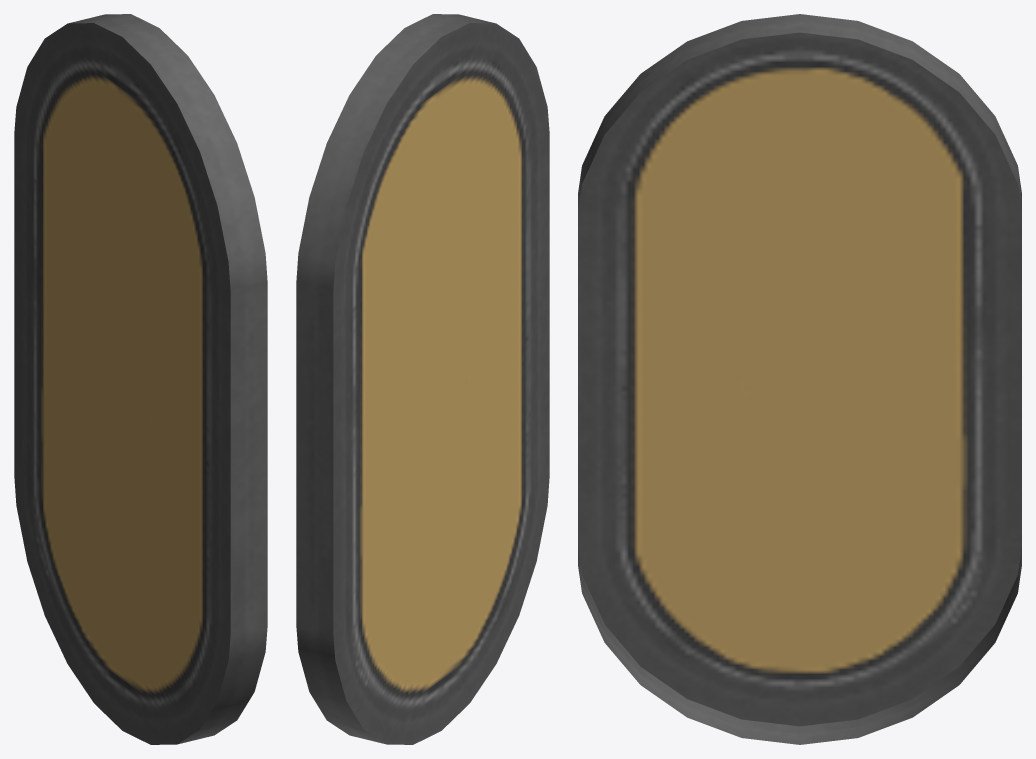
File: MB_Wall_Lamp_01.fbx
The picture shows the model from 3 angles, left to right: view 1: azimuth 30°, elevation 25°; view 2: azimuth 150°, elevation 25°; view 3: azimuth 270°, elevation 25°; orthographic projection. The views are drawn at different scales.
Visible parts, largest first — view 1: MB_Wall_Lamp_01; view 2: MB_Wall_Lamp_01; view 3: MB_Wall_Lamp_01.
Boxes of the visible parts, x1=… form: MB_Wall_Lamp_01: x1=14, y1=14, x2=267, y2=744; MB_Wall_Lamp_01: x1=296, y1=14, x2=549, y2=744; MB_Wall_Lamp_01: x1=578, y1=14, x2=1021, y2=744.
Size of the model in its own units: 4.95 by 88.62 by 50.03.
